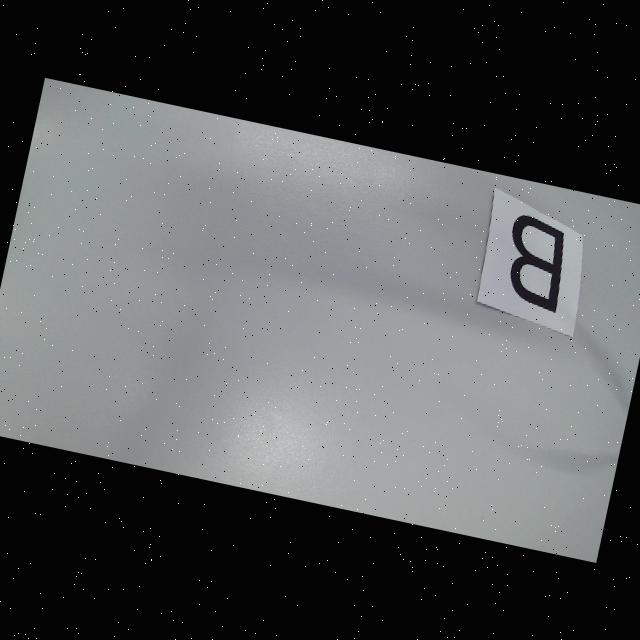FAKE: (497, 212, 574, 312)
